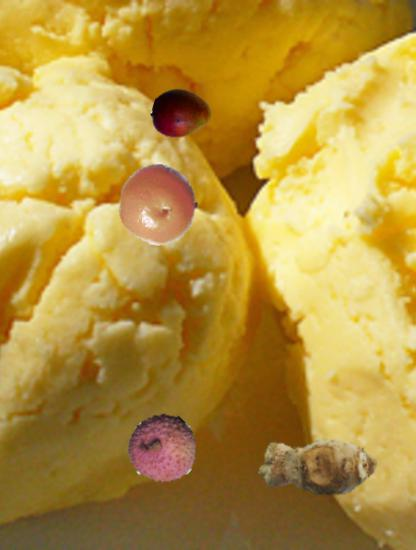Ginger: (258, 407, 380, 529)
Lychee: (128, 414, 199, 485)
Mango: (152, 85, 212, 145)
Tangelo: (118, 164, 200, 246)
